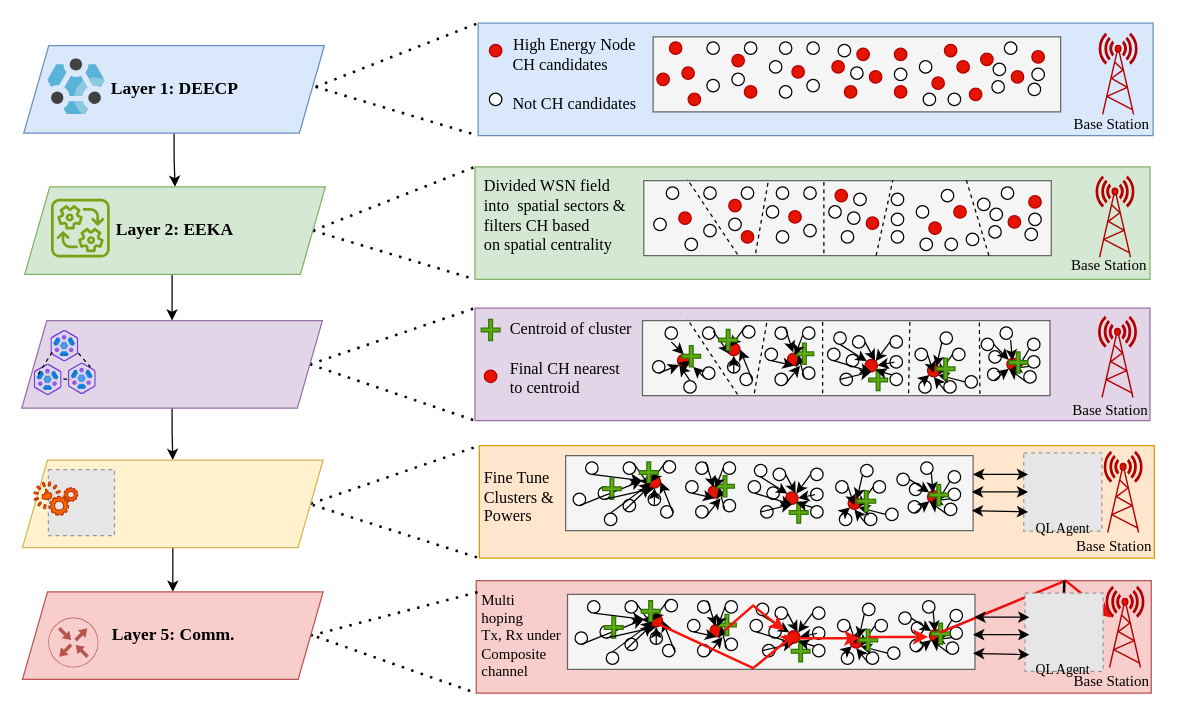
This 1179x716 diagram has some shape labels left out. Grey dashed boxes stand in for pictures. The shapes that lost their labels are listed below. From the top down, each one's box as (x1, y1, x2, y2) in pixels, then its label:
(20, 319, 322, 408): Layer 3: K-Means
(21, 459, 323, 548): Layer 4: RL
